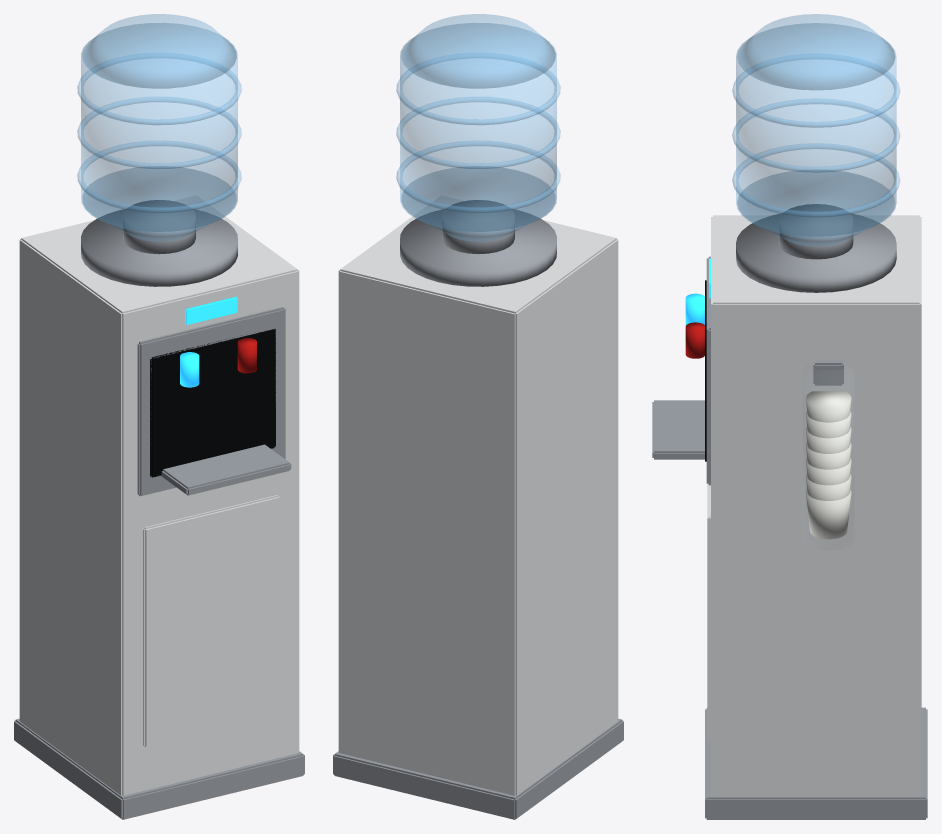
Rendered from decor_water.glb.
The picture shows the model from 3 angles, left to right: view 1: azimuth 30°, elevation 25°; view 2: azimuth 150°, elevation 25°; view 3: azimuth 270°, elevation 25°; orthographic projection. The views are drawn at different scales.
Parts seen in each view (by area): view 1: PC_White, PC_Water, PC_Grey, PC_Black, PC_Grey.001, LIVE_Blue.001, LIVE_Blue, PC_Red; view 2: PC_White, PC_Water, PC_Grey.001, PC_Grey; view 3: PC_White, PC_Water, PC_Grey.001, PC_Grey, PC_Paper, PC_Red, LIVE_Blue.
Boxes of the visible parts, x1,y1,x2,y2 form: PC_White: [19, 195, 299, 795]; PC_Water: [77, 14, 241, 241]; PC_Grey: [14, 307, 304, 819]; PC_Black: [150, 328, 275, 477]; PC_Grey.001: [81, 200, 237, 286]; LIVE_Blue.001: [185, 296, 237, 324]; LIVE_Blue: [180, 352, 199, 387]; PC_Red: [237, 338, 256, 373]; PC_White: [338, 195, 618, 795]; PC_Water: [396, 14, 560, 241]; PC_Grey.001: [400, 200, 556, 286]; PC_Grey: [333, 718, 623, 819]; PC_White: [707, 215, 921, 796]; PC_Water: [732, 14, 899, 246]; PC_Grey.001: [736, 204, 896, 292]; PC_Grey: [652, 256, 927, 819]; PC_Paper: [805, 391, 851, 539]; PC_Red: [685, 322, 704, 358]; LIVE_Blue: [685, 293, 704, 325].
Size of the model in its own units: 0.412 by 1.31 by 0.445.
